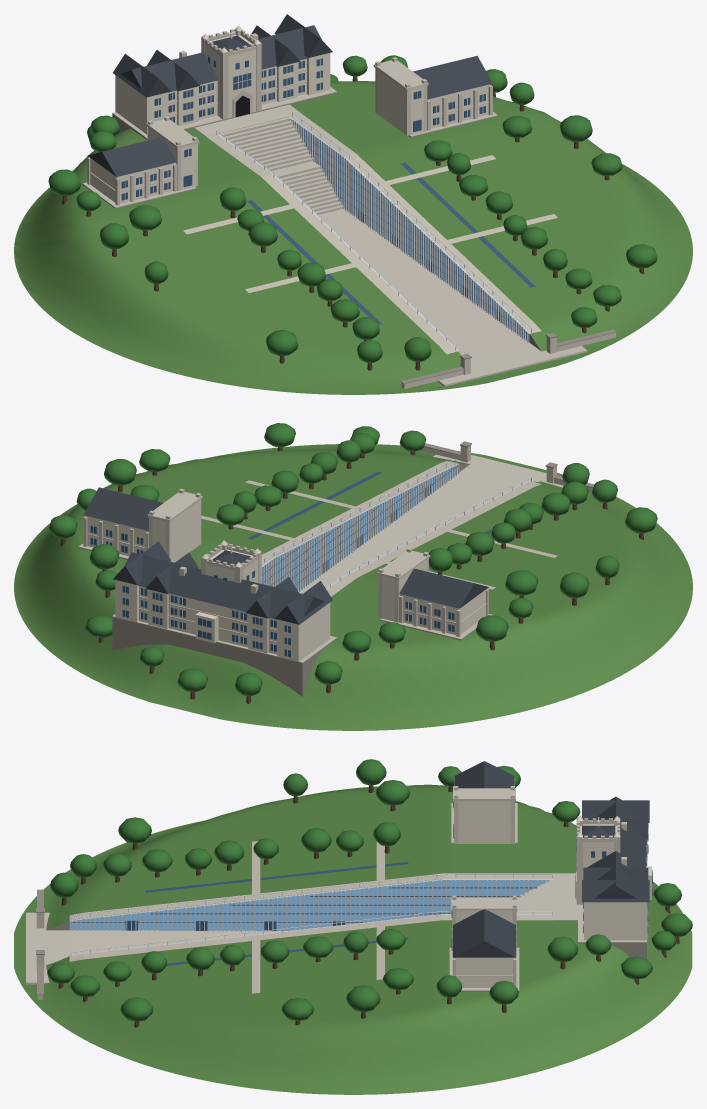
File: ewha-ecc.glb
3 renders of one model, top to bottom at view 1: azimuth 30°, elevation 25°; view 2: azimuth 150°, elevation 25°; view 3: azimuth 270°, elevation 25°, orthographic.
Size of the model in its own units: 220 by 47.38 by 218.
